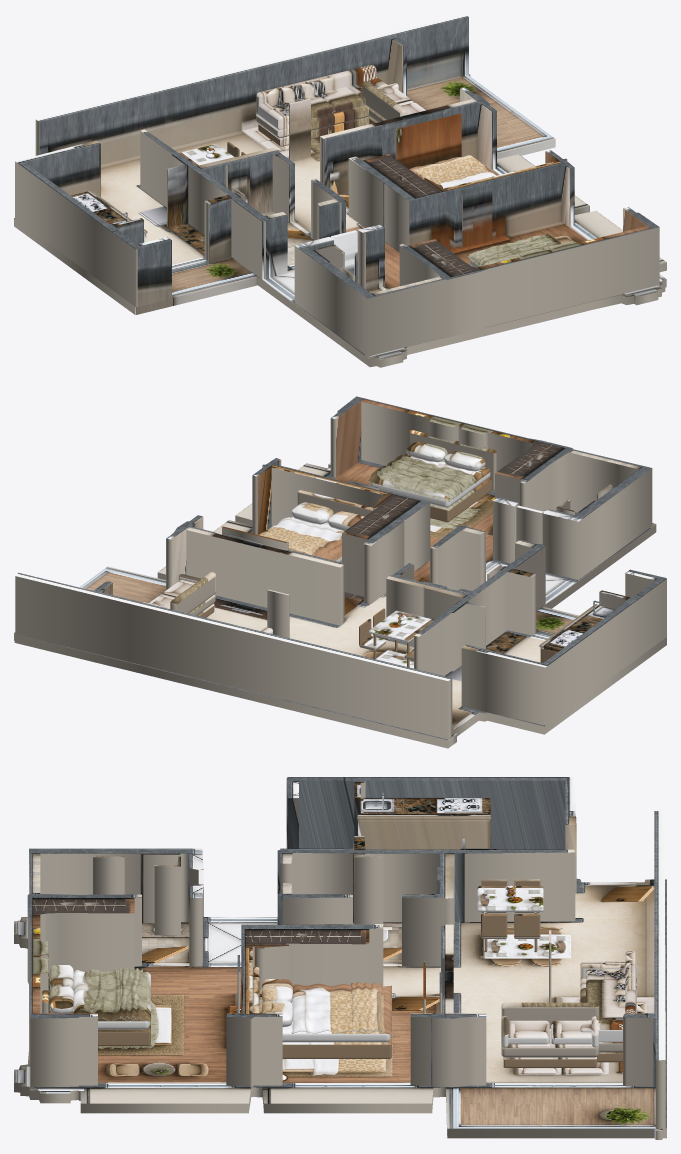
The model's file is p13-05-u05-2112-image-model.glb.
3 renders of one model, top to bottom at view 1: azimuth 30°, elevation 25°; view 2: azimuth 150°, elevation 25°; view 3: azimuth 270°, elevation 25°, orthographic. The views are drawn at different scales.
Visible parts, largest first — view 1: Partition walls, Apartment floor, Sofa back, Upholstered sofa frame, Draped bed linen.003, Sofa back.001, Draped bed linen, Draped bed linen.001, Sofa plinth, Seat cushion.002, Marble dining top, Stone worktop; view 2: Partition walls, Apartment floor, Draped bed linen.002, Draped bed linen, Marble dining top, Upholstered headboard.001, Sofa back.001, Piped mattress.001, Walnut upholstered base.001, Draped bed linen.003, Upholstered headboard, Draped bed linen.001 (+4 smaller); view 3: Partition walls, Apartment floor, Kitchen cabinets, Draped bed linen, Draped bed linen.002, Walnut upholstered base, Stone worktop, Sofa back.001, Marble dining top, Draped bed linen.001, Upholstered sofa frame.001, Piped mattress (+17 smaller).
Part boxes in pixels (left/top/right/bottom): Partition walls: left=15, top=14, right=659, bottom=356; Apartment floor: left=14, top=73, right=666, bottom=367; Sofa back: left=256, top=65, right=376, bottom=113; Upholstered sofa frame: left=256, top=104, right=369, bottom=138; Draped bed linen.003: left=469, top=233, right=560, bottom=264; Sofa back.001: left=362, top=81, right=407, bottom=119; Draped bed linen: left=409, top=156, right=495, bottom=188; Draped bed linen.001: left=410, top=155, right=485, bottom=179; Sofa plinth: left=258, top=116, right=369, bottom=146; Seat cushion.002: left=319, top=87, right=362, bottom=111; Marble dining top: left=179, top=144, right=234, bottom=165; Stone worktop: left=71, top=190, right=147, bottom=233; Partition walls: left=15, top=396, right=666, bottom=739; Apartment floor: left=14, top=460, right=666, bottom=748; Draped bed linen.002: left=367, top=454, right=481, bottom=499; Draped bed linen: left=267, top=517, right=344, bottom=559; Marble dining top: left=368, top=610, right=434, bottom=642; Upholstered headboard.001: left=409, top=430, right=496, bottom=490; Sofa back.001: left=170, top=572, right=215, bottom=613; Piped mattress.001: left=371, top=454, right=490, bottom=507; Walnut upholstered base.001: left=430, top=477, right=491, bottom=522; Draped bed linen.003: left=371, top=465, right=462, bottom=496; Upholstered headboard: left=297, top=490, right=373, bottom=516; Draped bed linen.001: left=259, top=532, right=339, bottom=560; Partition walls: left=27, top=777, right=665, bottom=1128; Apartment floor: left=14, top=878, right=666, bottom=1139; Kitchen cabinets: left=358, top=819, right=489, bottom=849; Draped bed linen: left=291, top=983, right=391, bottom=1034; Draped bed linen.002: left=73, top=969, right=150, bottom=1021; Walnut upholstered base: left=282, top=1034, right=391, bottom=1058; Stone worktop: left=357, top=797, right=490, bottom=819; Sofa back.001: left=501, top=1002, right=599, bottom=1028; Marble dining top: left=477, top=886, right=543, bottom=911; Draped bed linen.001: left=350, top=981, right=381, bottom=1032; Upholstered sofa frame.001: left=501, top=1028, right=599, bottom=1057; Piped mattress: left=259, top=989, right=390, bottom=1042.
Bounding box in the file's own units: 10.12 × 1.3 × 9.82.
Materials: 13 (3 with a texture image).
